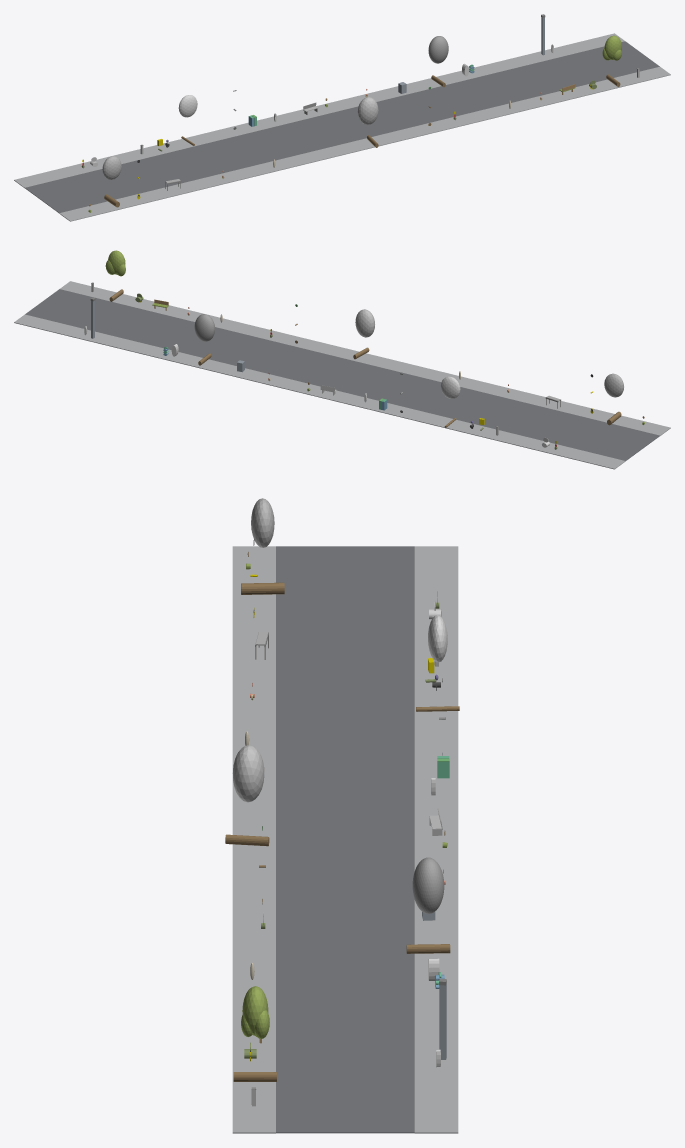
3 renders of one model, top to bottom at view 1: azimuth 30°, elevation 25°; view 2: azimuth 150°, elevation 25°; view 3: azimuth 270°, elevation 25°, orthographic. The views are drawn at different scales.
Parts seen in each view (by area): view 1: road_slab, sidewalk_left, sidewalk_right, inst_0014, inst_0015, inst_0016, inst_0012, inst_0013; view 2: road_slab, sidewalk_right, sidewalk_left, inst_0014, inst_0015, inst_0016, inst_0012, inst_0013; view 3: road_slab, sidewalk_right, sidewalk_left, inst_0014, inst_0015, inst_0016, inst_0012, inst_0013.
Part boxes in pixels (left/top/right/bottom): road_slab: left=25, top=41, right=659, bottom=213; sidewalk_left: left=59, top=66, right=670, bottom=221; sidewalk_right: left=14, top=33, right=624, bottom=188; inst_0014: left=357, top=97, right=378, bottom=147; inst_0015: left=428, top=36, right=448, bottom=87; inst_0016: left=602, top=35, right=621, bottom=86; inst_0012: left=102, top=156, right=121, bottom=207; inst_0013: left=178, top=95, right=197, bottom=145; road_slab: left=25, top=289, right=659, bottom=461; sidewalk_right: left=14, top=314, right=625, bottom=469; sidewalk_left: left=60, top=281, right=670, bottom=435; inst_0014: left=353, top=309, right=374, bottom=359; inst_0015: left=194, top=314, right=214, bottom=365; inst_0016: left=105, top=250, right=125, bottom=301; inst_0012: left=604, top=373, right=623, bottom=425; inst_0013: left=440, top=376, right=460, bottom=427; road_slab: left=276, top=546, right=414, bottom=1133; sidewalk_right: left=414, top=546, right=458, bottom=1133; sidewalk_left: left=232, top=546, right=275, bottom=1133; inst_0014: left=225, top=745, right=269, bottom=846; inst_0015: left=406, top=857, right=450, bottom=953; inst_0016: left=233, top=986, right=276, bottom=1081; inst_0012: left=241, top=498, right=284, bottom=594; inst_0013: left=416, top=615, right=459, bottom=711.
Size of the model in its own units: 80 by 6.08 by 13.51.
